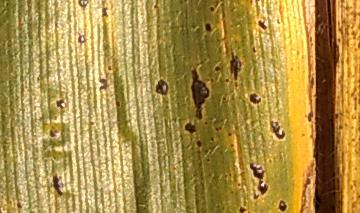tarspot: (189, 66, 208, 121), (248, 161, 270, 196), (227, 47, 242, 81), (267, 120, 286, 141), (51, 172, 65, 196), (154, 77, 169, 96), (247, 91, 264, 107), (97, 76, 110, 94), (183, 121, 197, 135), (256, 18, 269, 32), (74, 31, 87, 45), (277, 198, 288, 213), (48, 125, 60, 138), (100, 5, 110, 20), (54, 98, 66, 110), (203, 22, 214, 35), (306, 110, 315, 124), (76, 1, 90, 9), (194, 140, 204, 149), (114, 100, 123, 110), (309, 75, 315, 90), (238, 205, 248, 213), (207, 5, 217, 13), (105, 63, 113, 73), (213, 64, 221, 73), (151, 3, 160, 11), (250, 45, 256, 56), (252, 192, 260, 200), (208, 135, 216, 143), (232, 80, 240, 88), (214, 125, 223, 132), (223, 77, 231, 84), (226, 131, 234, 138), (88, 120, 96, 127), (275, 17, 282, 25), (228, 142, 236, 149), (16, 201, 22, 210), (178, 1, 188, 6), (205, 156, 211, 164), (209, 76, 215, 84), (221, 95, 227, 102), (308, 35, 313, 43), (356, 40, 360, 49), (202, 121, 209, 126), (310, 42, 315, 48), (339, 1, 345, 4), (217, 1, 224, 3)
